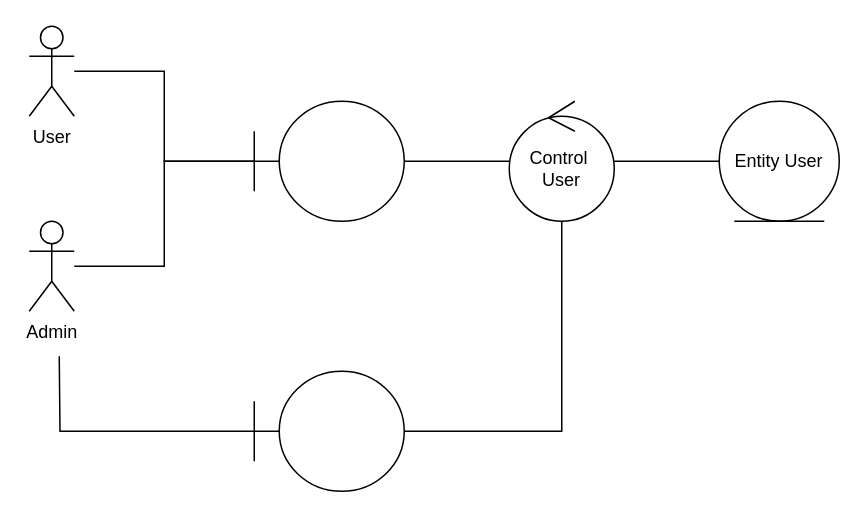
This 866x518 diagram has some shape labels left out. Here are the shapes that lost their labels. From the top down, the centre of each, then its label:
At point (328, 160): "Boundary SignUp".
At point (328, 430): "Boundary ListUsers".
